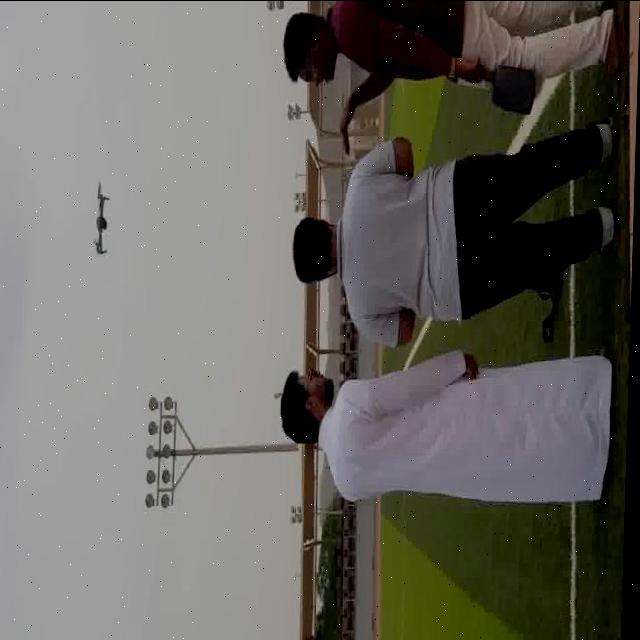drone: (89, 174, 115, 262)
